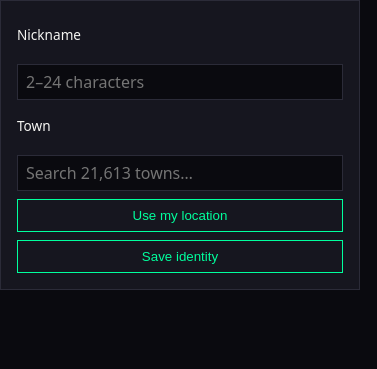
Test: IdentityPicker › rejects a too-short nickname with an honest status
Type "x" into the field with test id "identity-nickname" at (180,82), box [17,64,343,100]
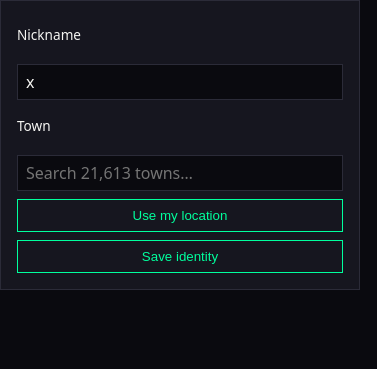
Click the button with test id "identity-save" at (180,256), box [17,240,343,273]
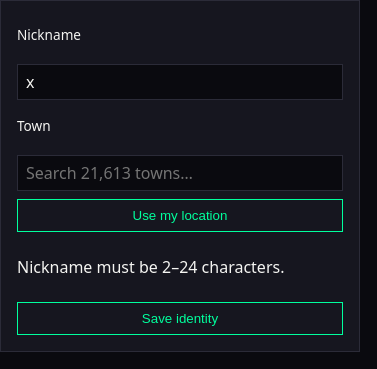
Expected: the message with test id "identity-status" shows "2–24", [17,256,284,278]
